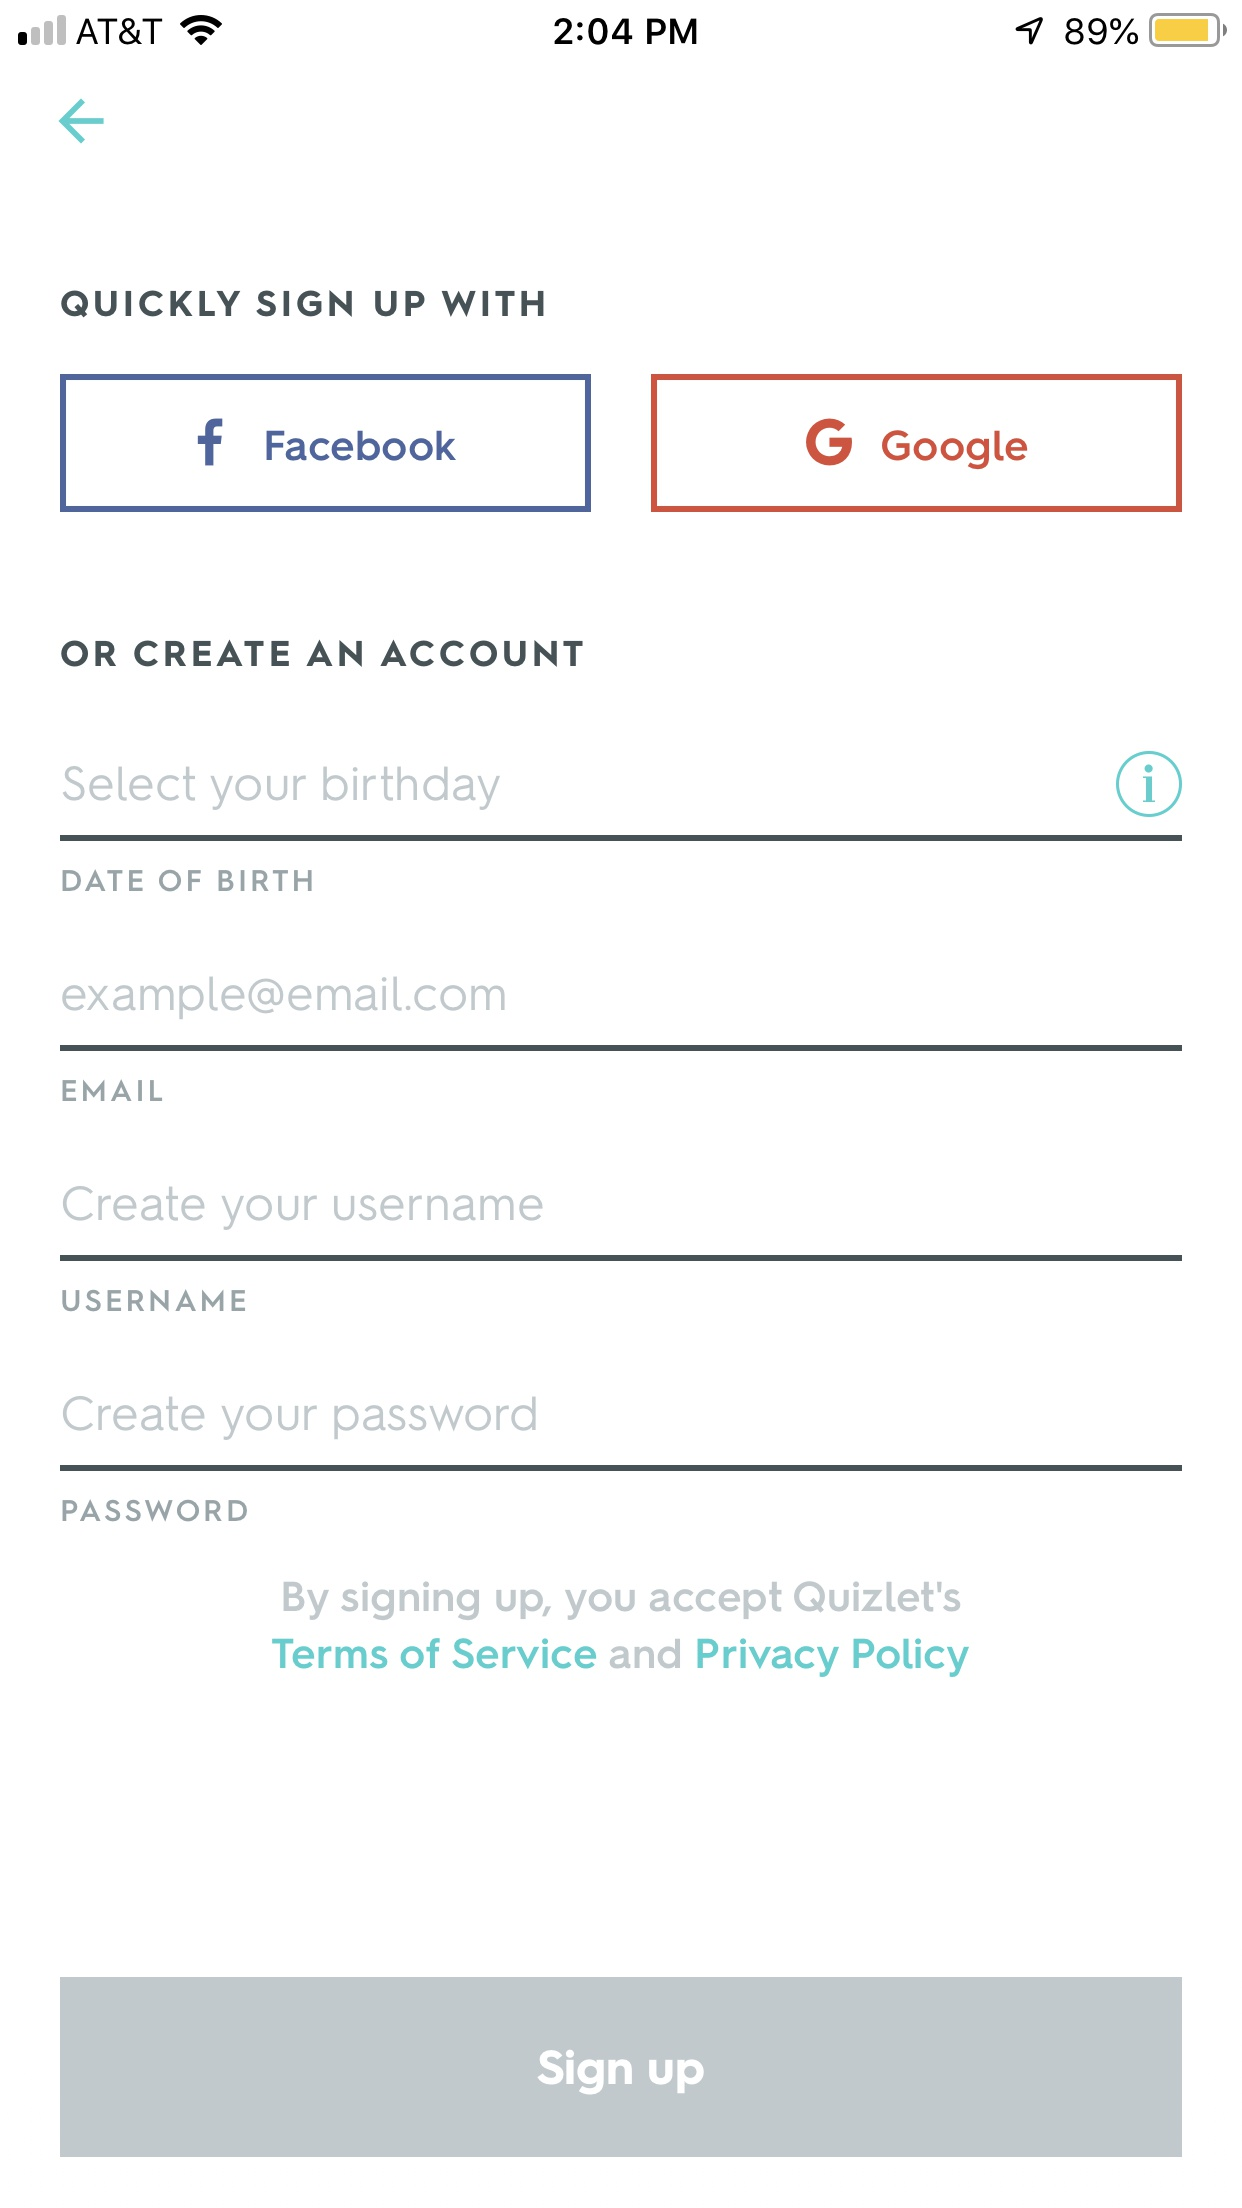EditText: (61, 751, 1181, 842), (61, 1395, 1183, 1473), (61, 1184, 1183, 1262), (61, 975, 1183, 1052)
Icon: (1116, 751, 1183, 817), (59, 99, 105, 146)
Text: (271, 1580, 971, 1679), (64, 1186, 544, 1231), (62, 1395, 537, 1441), (64, 975, 505, 1021), (64, 766, 500, 811), (61, 640, 584, 667), (62, 291, 544, 318), (64, 869, 314, 893), (62, 1498, 249, 1523), (62, 1289, 247, 1313), (64, 1080, 164, 1102)
TextButton: (61, 1977, 1183, 2158), (61, 375, 591, 514), (651, 375, 1183, 513)
UpperTaskBar: (2, 2, 1242, 49)
